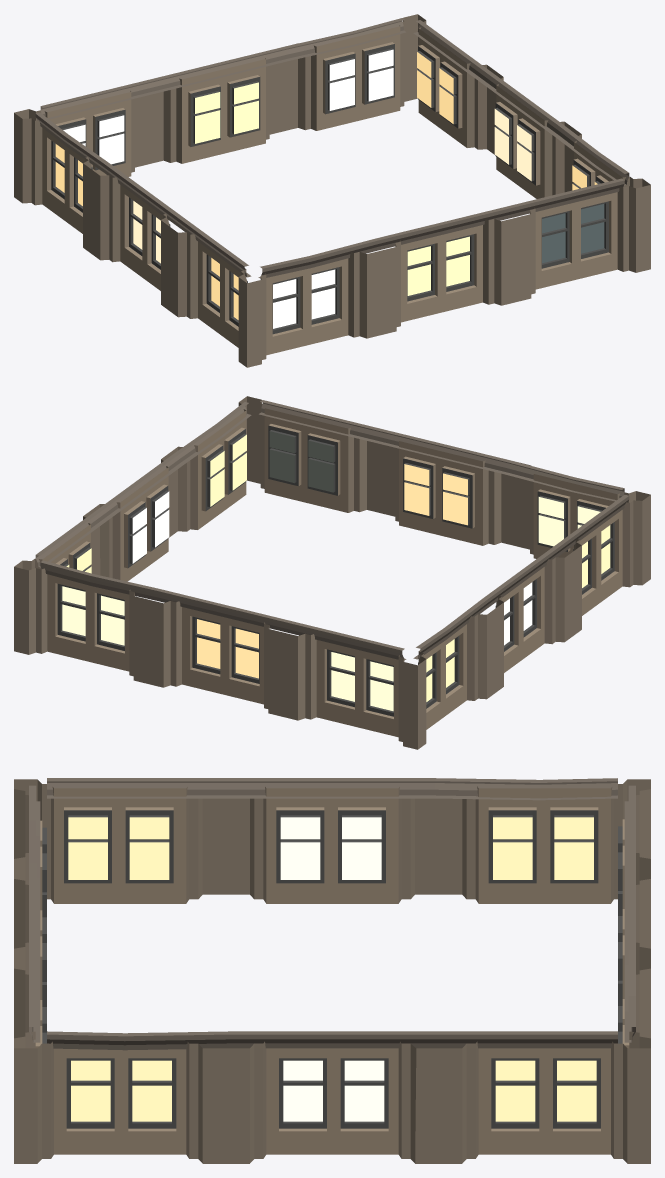
The model's file is SM_Bld_OfficeOld_Large_Floor_01.fbx.
The picture shows the model from 3 angles, top to bottom: view 1: azimuth 30°, elevation 25°; view 2: azimuth 150°, elevation 25°; view 3: azimuth 270°, elevation 25°; orthographic projection. The views are drawn at different scales.
Visible parts, largest first — view 1: SM_Bld_OfficeOld_Large_Floor_01; view 2: SM_Bld_OfficeOld_Large_Floor_01; view 3: SM_Bld_OfficeOld_Large_Floor_01.
Part boxes in pixels (left/top/right/bottom): SM_Bld_OfficeOld_Large_Floor_01: left=14, top=14, right=650, bottom=367; SM_Bld_OfficeOld_Large_Floor_01: left=14, top=396, right=650, bottom=749; SM_Bld_OfficeOld_Large_Floor_01: left=14, top=778, right=650, bottom=1163.
Size of the model in its own units: 1500 by 319 by 1500.
